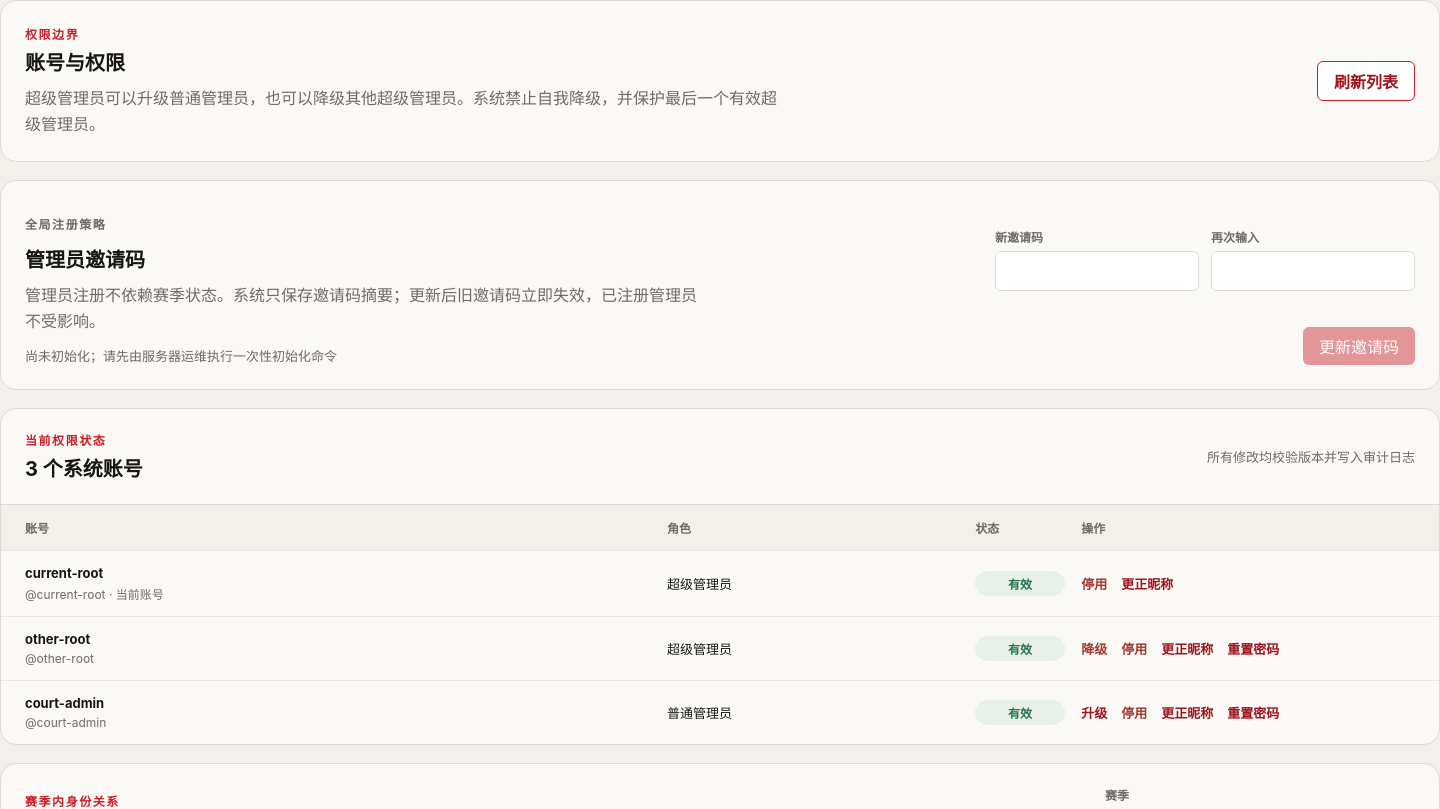
Scenario: AdminAccountsPage › keeps a failed dangerous action inside its confirmation dialog
This screenshot has width=1440, height=809.
Click the button "降级" at (1094, 648), box [1081,636,1107,661]
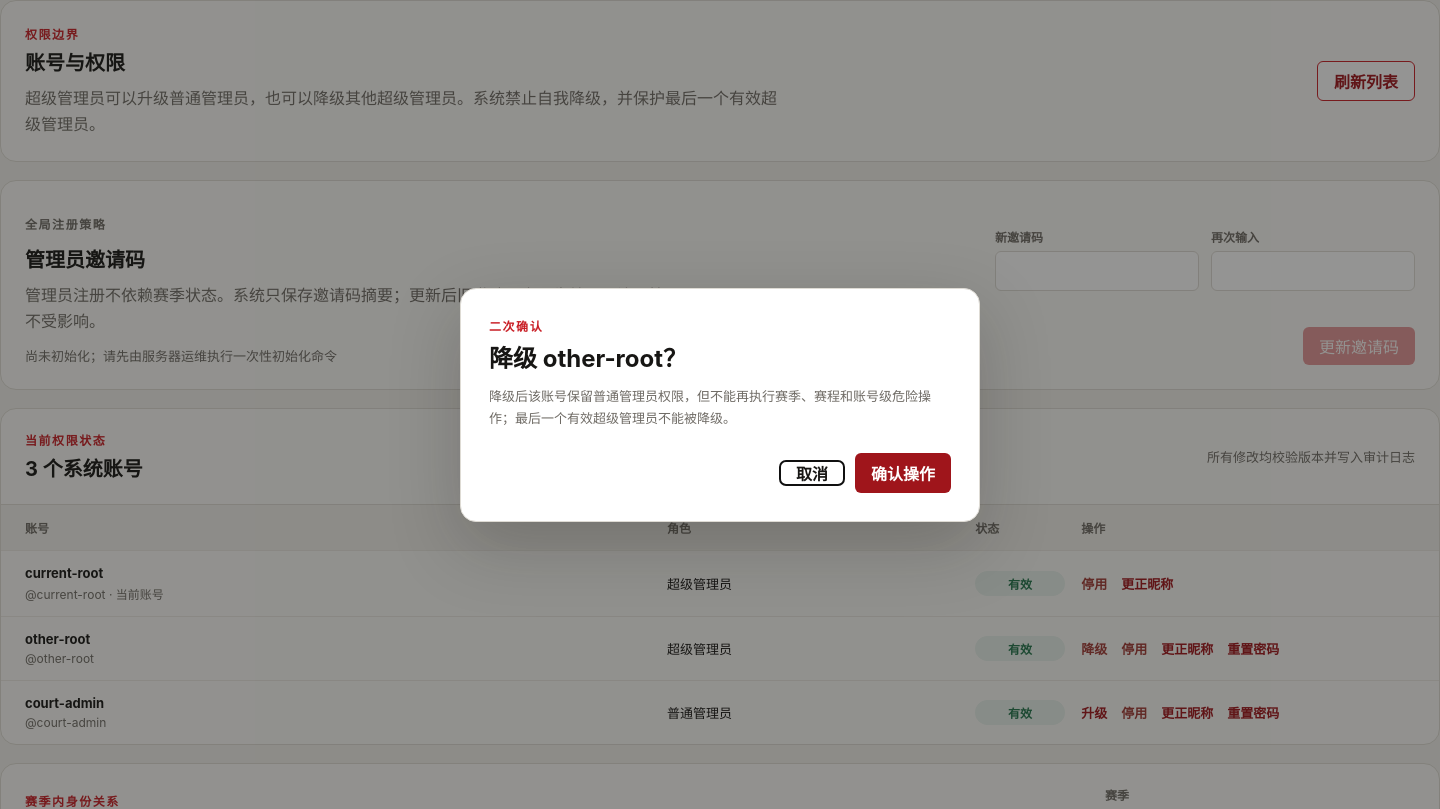
Click the button "确认操作" at (903, 473), box [855,453,951,493]
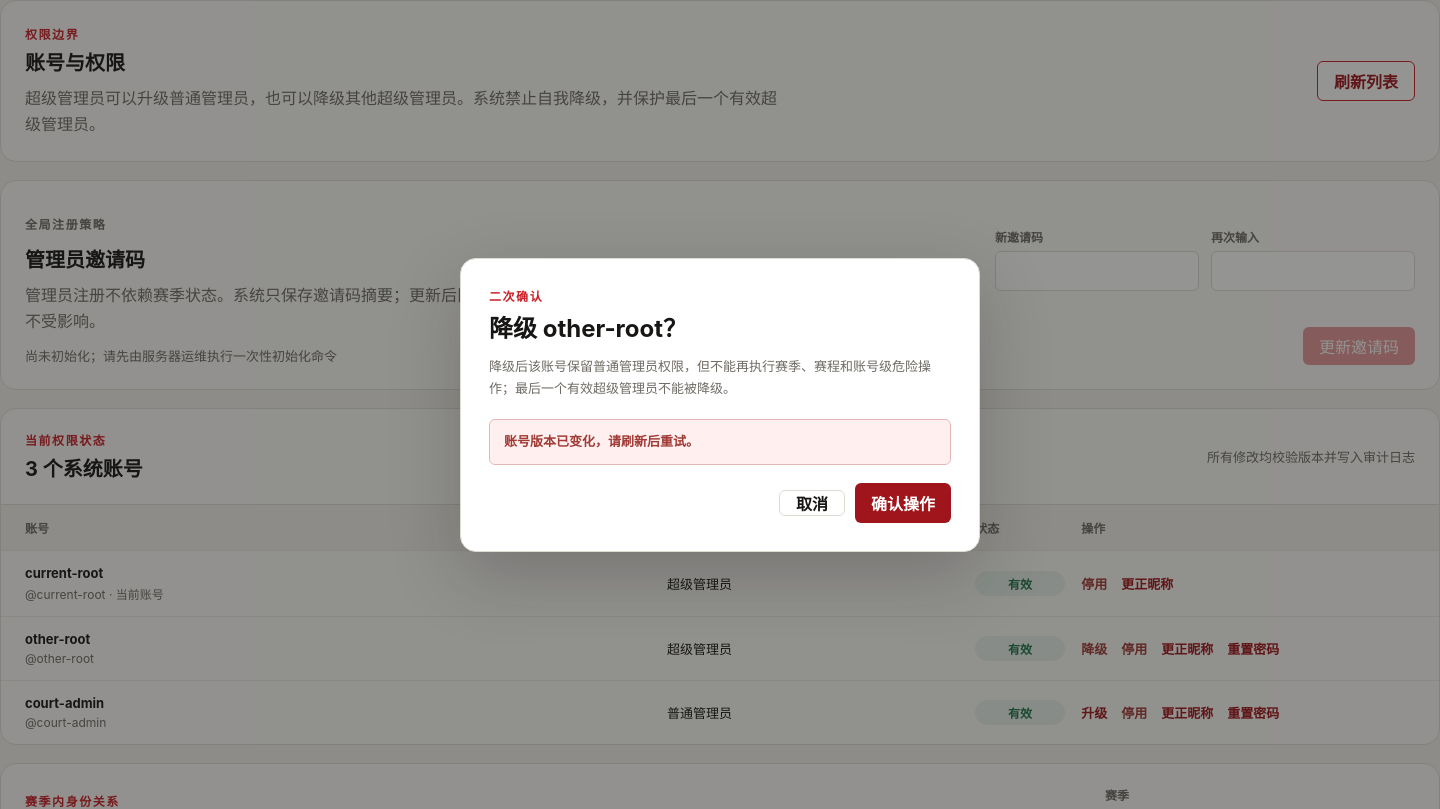
Check: the dialog "降级 other-root？" is shown, box [460,258,980,552]
Check: the message reads "账号版本已变化，请刷新后重试。", box [504,433,699,449]
